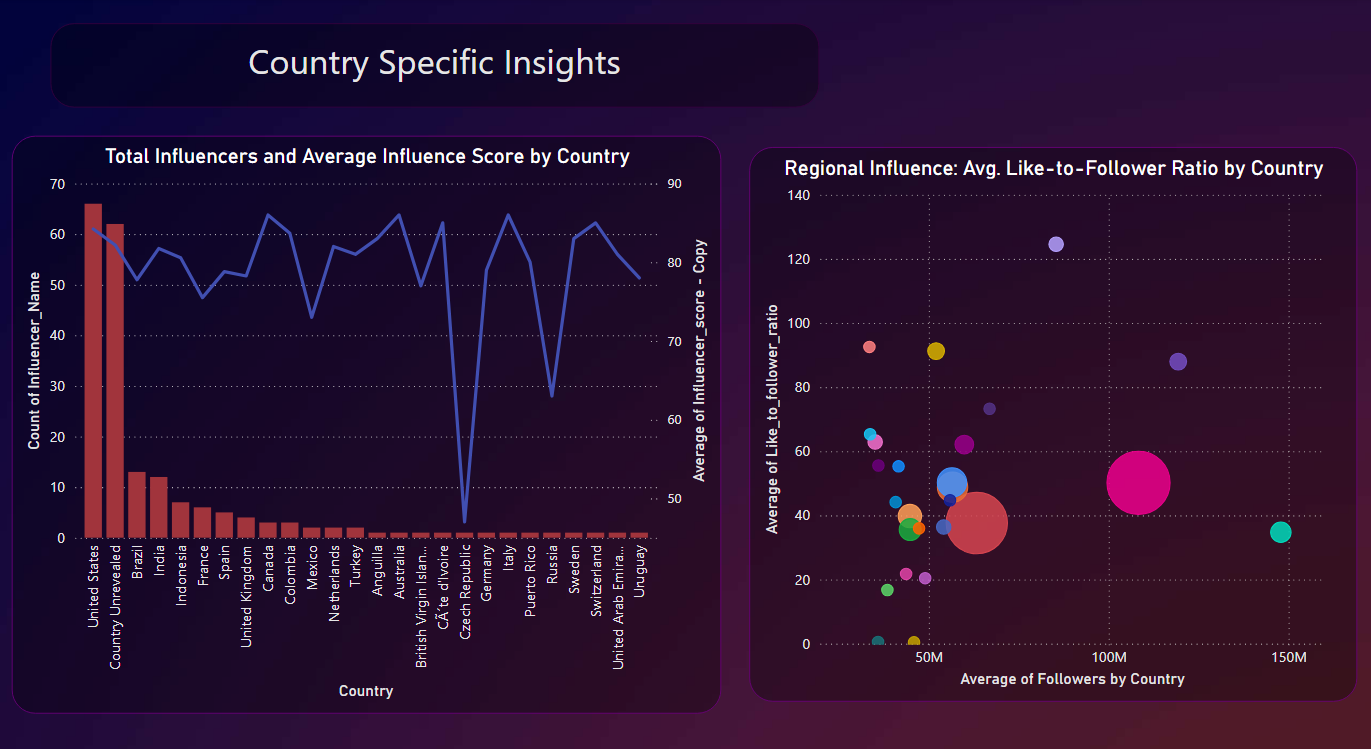

The dashboard page shown, as its layout file describes it:
{"tool":"powerbi","page":{"name":"Dashboard Pg3","canvas":[1280,720],"ordinal":2},"visuals":[{"type":"lineClusteredColumnComboChart","title":"Total Influencers and Average Influence Score by Country","fields":{"Category":["top_insta_influencers_data.Country"],"Y":["Count(top_insta_influencers_data.Influencer_Name)"],"Y2":["Avg(top_insta_influencers_data.Influencer_score - Copy)"]},"box":[12.3,129,660,537.9],"z":0},{"type":"scatterChart","title":"Regional Influence: Avg. Like-to-Follower Ratio by Country","fields":{"X":["Avg(top_insta_influencers_data.Followers)"],"Y":["Avg(top_insta_influencers_data.Like_to_follower_ratio)"],"Size":["Count(top_insta_influencers_data.Influencer_Name)"],"Series":["top_insta_influencers_data.Country"]},"box":[698.5,140,565.4,516],"z":1000},{"type":"textbox","box":[49.4,24.7,714.9,78.2],"z":2000}]}

Visuals, with their boxes in screenshot pixels (x1, y1, x2, y2), scaled from the page's 1280x720 canvas onto the 1371x749 screenshot:
"Total Influencers and Average Influence Score by Country" lineClusteredColumnComboChart: bbox=(13, 134, 720, 694)
"Regional Influence: Avg. Like-to-Follower Ratio by Country" scatterChart: bbox=(748, 146, 1354, 682)
textbox: bbox=(53, 26, 819, 107)
